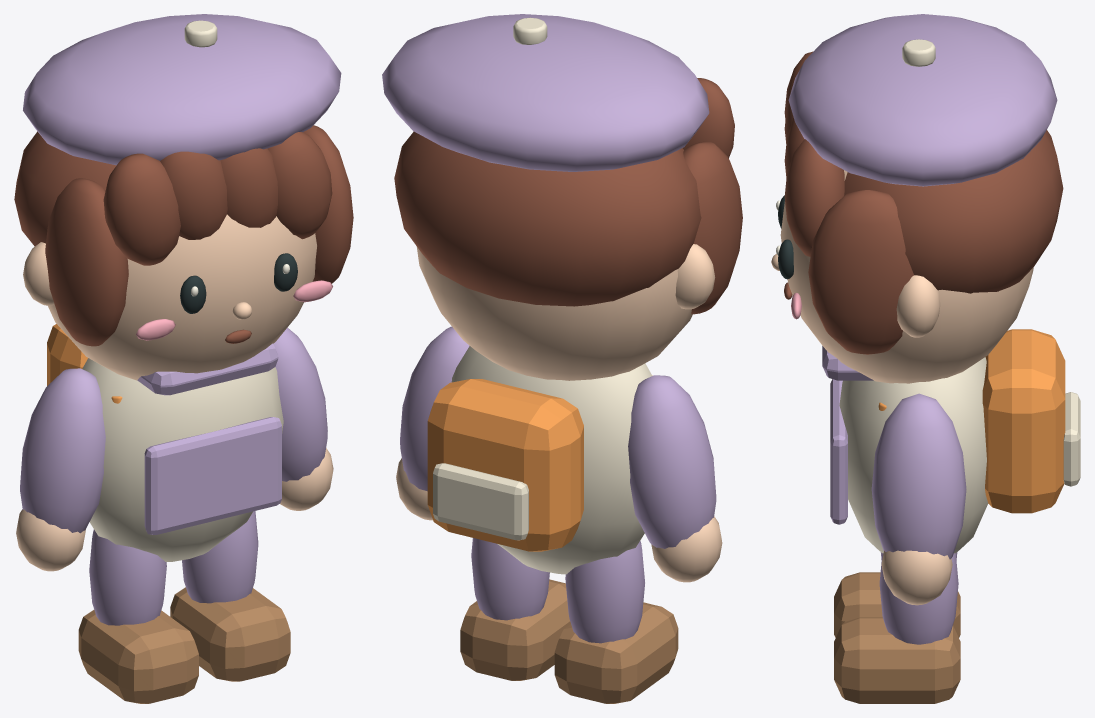
The model's file is protagonist.glb.
3 renders of one model, left to right at view 1: azimuth 30°, elevation 25°; view 2: azimuth 150°, elevation 25°; view 3: azimuth 270°, elevation 25°, orthographic. The views are drawn at different scales.
Visible parts, largest first — view 1: protagonist; view 2: protagonist; view 3: protagonist.
Boxes of the visible parts, left/top/right/bottom form: protagonist: left=14, top=14, right=353, bottom=703; protagonist: left=382, top=14, right=742, bottom=703; protagonist: left=771, top=14, right=1080, bottom=703.
Size of the model in its own units: 0.915 by 1.79 by 0.783.
